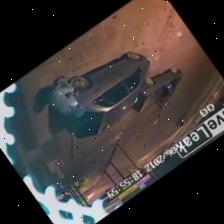person: (49, 75, 75, 114)
